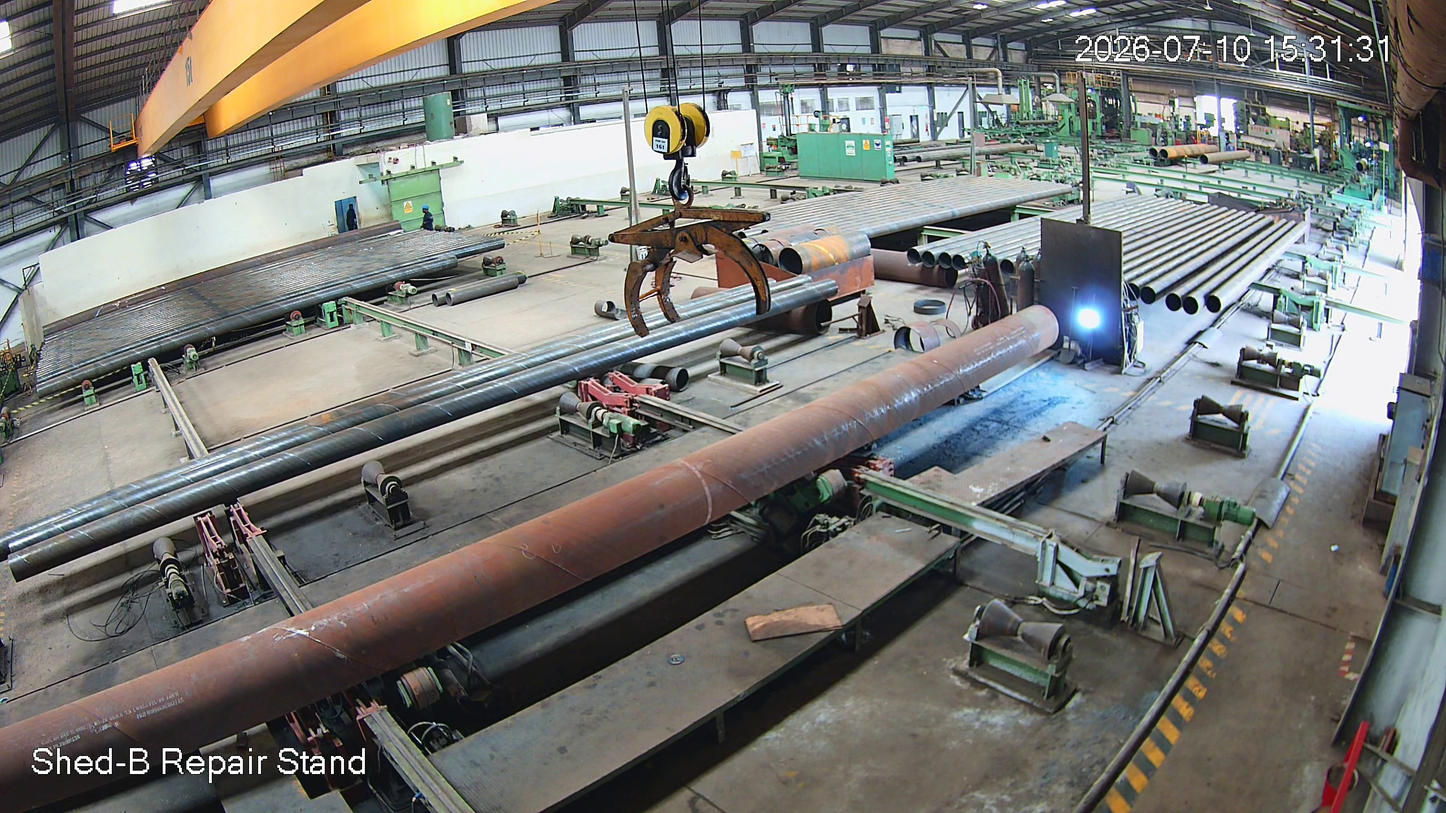Helmet: (420, 203, 432, 214)
Person: (419, 204, 433, 231)
